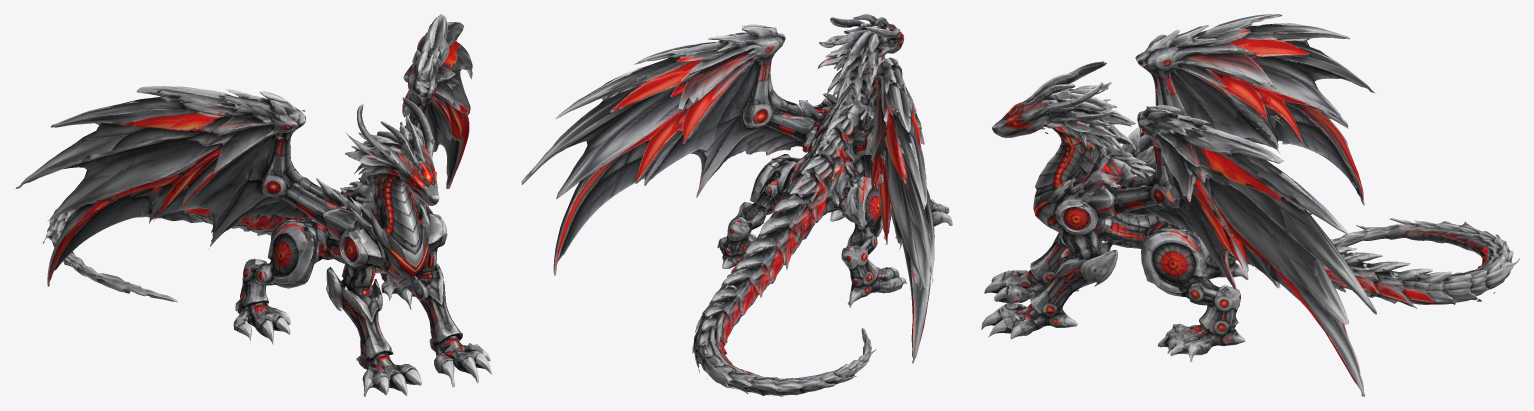
The model's file is kaine_mech.glb.
3 views of the same model, side by side, from view 1: azimuth 30°, elevation 25°; view 2: azimuth 150°, elevation 25°; view 3: azimuth 270°, elevation 25° (orthographic). The views are drawn at different scales.
Parts seen in each view (by area): view 1: Mesh_0; view 2: Mesh_0; view 3: Mesh_0.
Boxes of the visible parts, box(x1,y1,x2,y2) form: Mesh_0: box(15, 14, 492, 396); Mesh_0: box(521, 14, 952, 396); Mesh_0: box(981, 14, 1519, 396).
Bounding box in the file's own units: 1.84 × 0.9573 × 1.9.
1 material, 1 textured.
